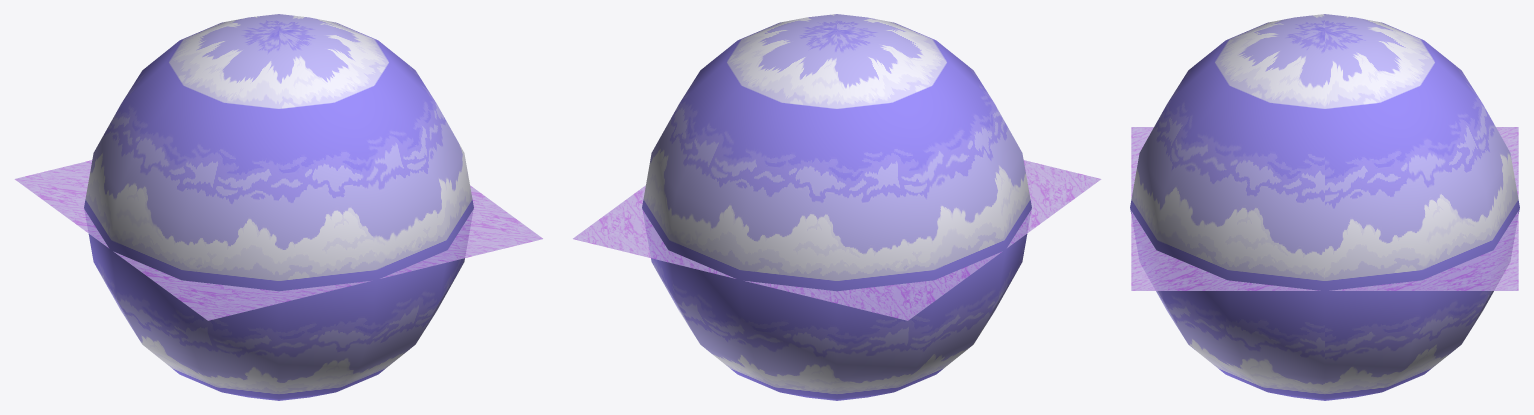
File: mindpalace2.glb
3 views of the same model, side by side, from view 1: azimuth 30°, elevation 25°; view 2: azimuth 150°, elevation 25°; view 3: azimuth 270°, elevation 25° (orthographic).
Parts seen in each view (by area): view 1: Sphere, Plane; view 2: Sphere, Plane; view 3: Sphere, Plane.
Part boxes in pixels (bbox=[...]): Sphere: bbox=[84, 14, 473, 400]; Plane: bbox=[14, 160, 542, 320]; Sphere: bbox=[642, 14, 1031, 400]; Plane: bbox=[573, 160, 1101, 320]; Sphere: bbox=[1130, 14, 1519, 400]; Plane: bbox=[1131, 127, 1518, 290].
Bounding box in the file's own units: 93.44 × 93.44 × 93.44.
8 materials, 7 textured.
